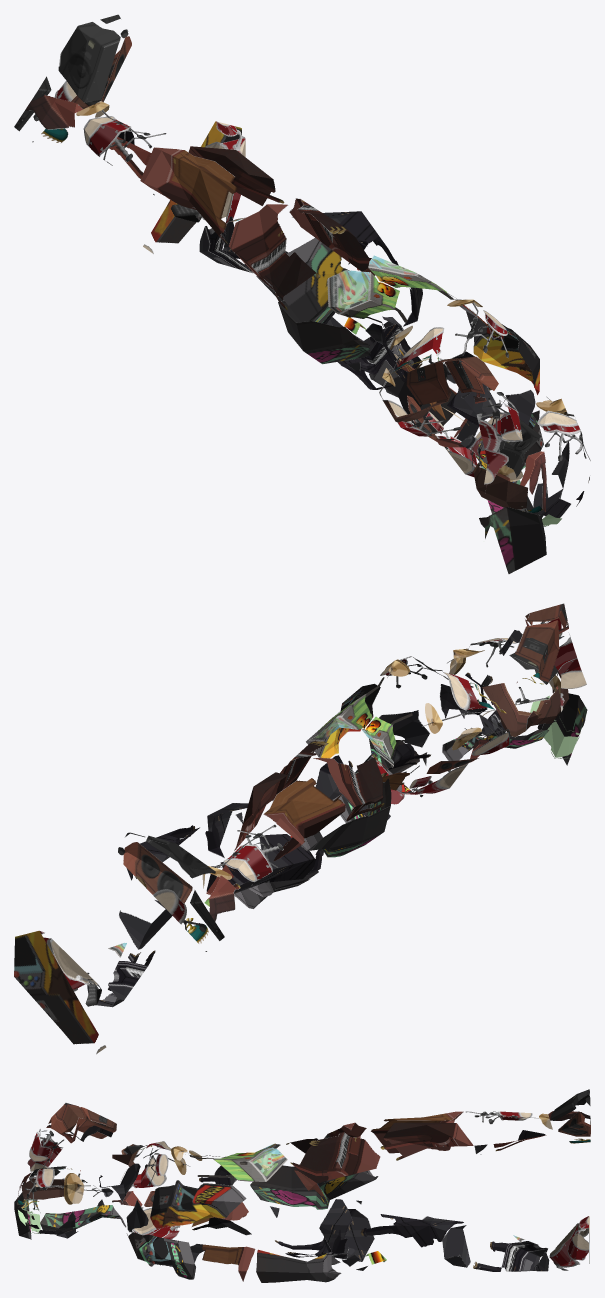
3 views of the same model, one above another, from view 1: azimuth 30°, elevation 25°; view 2: azimuth 150°, elevation 25°; view 3: azimuth 270°, elevation 25° (orthographic). The views are drawn at different scales.
Size of the model in its own units: 0.4669 by 0.502 by 1.58.
